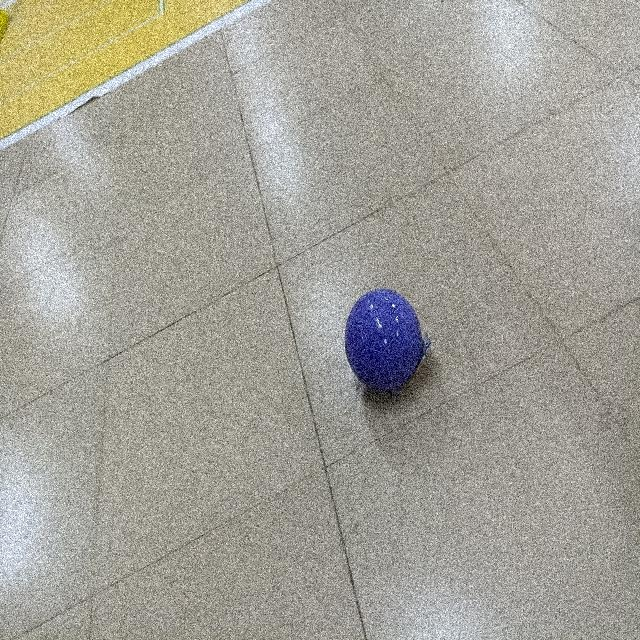purple_ball: (345, 290, 428, 388)
